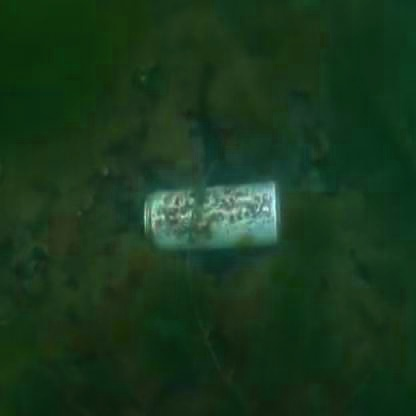can: (131, 172, 293, 260)
